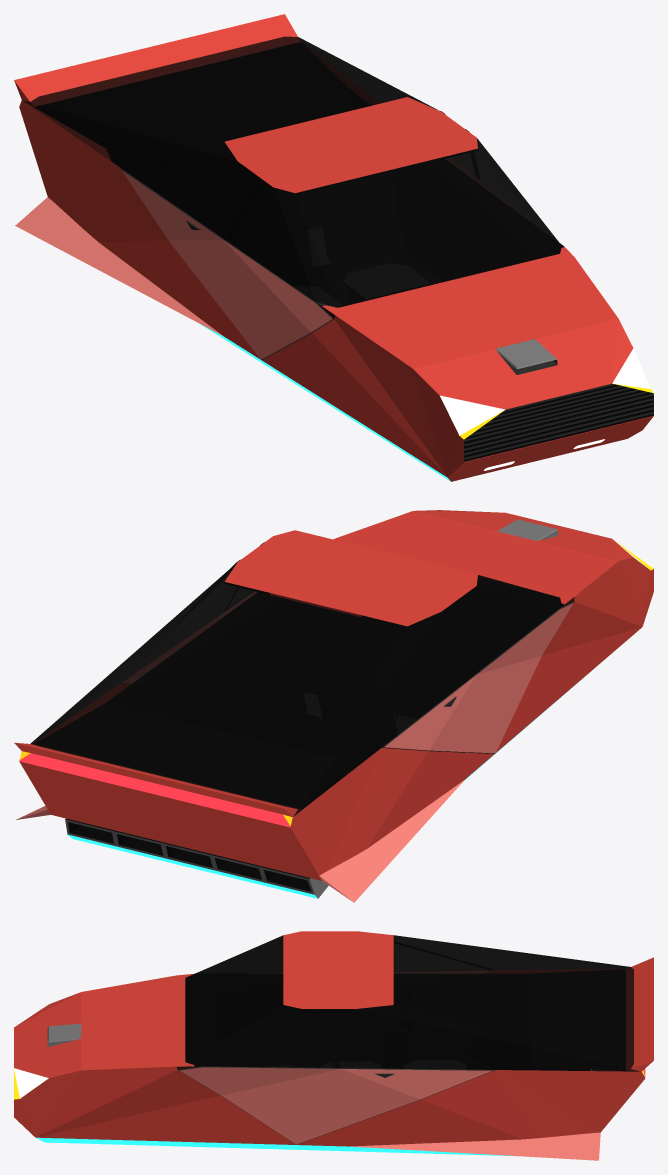
Rendered from flying_car_1_low-poly.glb.
The picture shows the model from 3 angles, top to bottom: view 1: azimuth 30°, elevation 25°; view 2: azimuth 150°, elevation 25°; view 3: azimuth 270°, elevation 25°; orthographic projection. The views are drawn at different scales.
Parts seen in each view (by area): view 1: Flying Car; view 2: Flying Car; view 3: Flying Car.
Part boxes in pixels (x1,y1,x2,y2): Flying Car: (14, 14, 653, 481); Flying Car: (14, 510, 653, 902); Flying Car: (14, 931, 653, 1160).
Bounding box in the file's own units: 250 × 125 × 523.
